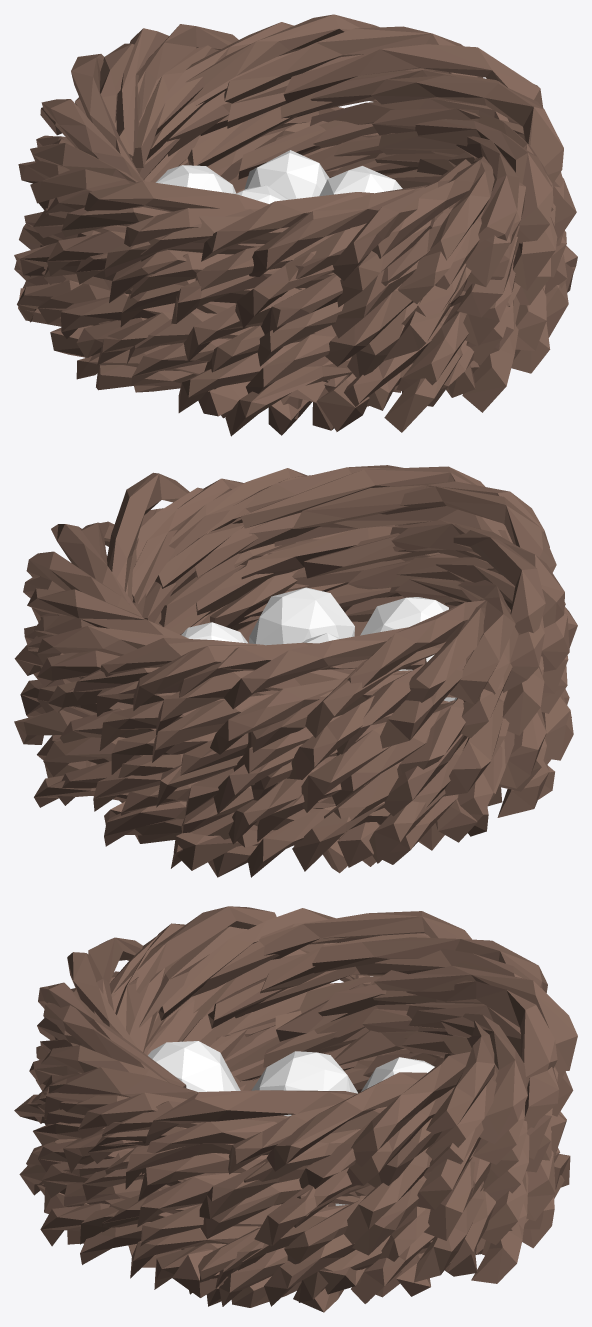
Rendered from Nest_10.fbx.
3 views of the same model, one above another, from view 1: azimuth 30°, elevation 25°; view 2: azimuth 150°, elevation 25°; view 3: azimuth 270°, elevation 25° (orthographic). The views are drawn at different scales.
Visible parts, largest first — view 1: Nest_10_LOD0; view 2: Nest_10_LOD0; view 3: Nest_10_LOD0.
Boxes of the visible parts, box(x1,y1,x2,y2) form: Nest_10_LOD0: box(14, 14, 577, 436); Nest_10_LOD0: box(14, 465, 577, 877); Nest_10_LOD0: box(14, 906, 577, 1312).
Size of what is drawn, in the model's own units: 50.88 by 25.31 by 51.62.
